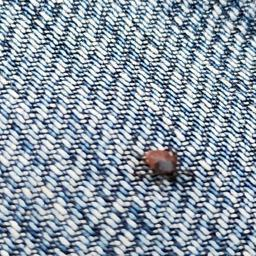Ixodes scapularis: (136, 148, 193, 182)
